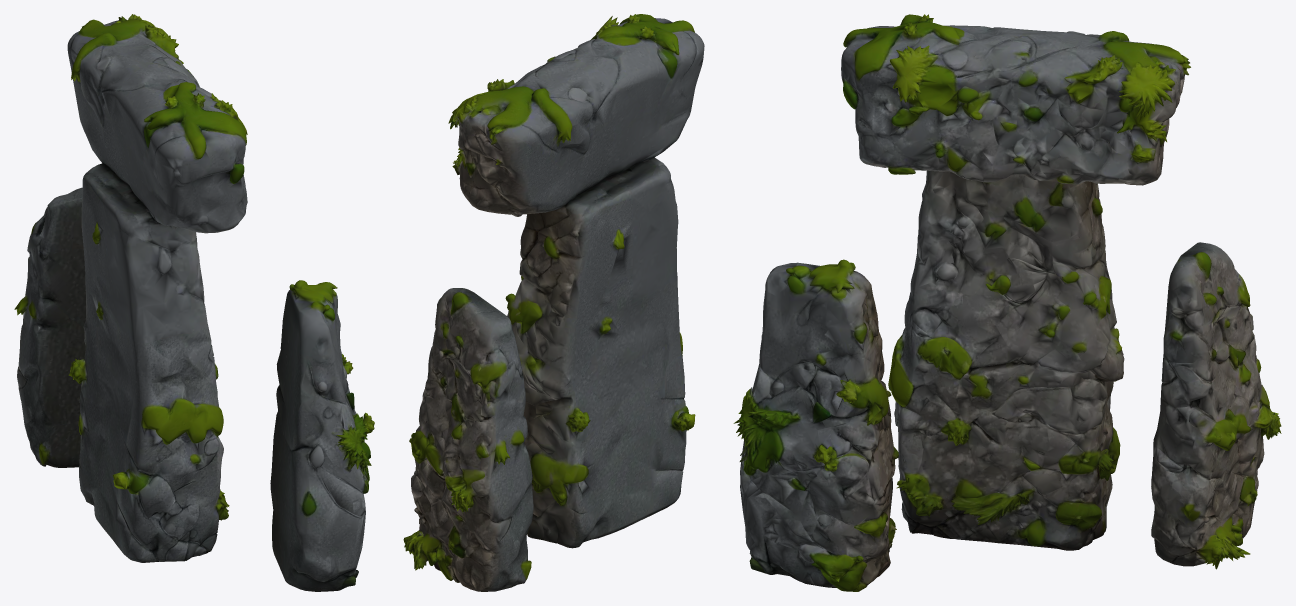
The model's file is standing_stones.glb.
3 views of the same model, side by side, from view 1: azimuth 30°, elevation 25°; view 2: azimuth 150°, elevation 25°; view 3: azimuth 270°, elevation 25° (orthographic). The views are drawn at different scales.
Parts seen in each view (by area): view 1: tripo_node_cb13f78c-cdb6-405d-b5c4-081dcfa569b3; view 2: tripo_node_cb13f78c-cdb6-405d-b5c4-081dcfa569b3; view 3: tripo_node_cb13f78c-cdb6-405d-b5c4-081dcfa569b3.
Part boxes in pixels (x1=…): tripo_node_cb13f78c-cdb6-405d-b5c4-081dcfa569b3: x1=14, y1=14, x2=374, y2=591; tripo_node_cb13f78c-cdb6-405d-b5c4-081dcfa569b3: x1=403, y1=14, x2=704, y2=591; tripo_node_cb13f78c-cdb6-405d-b5c4-081dcfa569b3: x1=733, y1=14, x2=1281, y2=591.
Bounding box in the file's own units: 0.4619 × 0.981 × 0.9596.
Materials: 1 (1 with a texture image).
